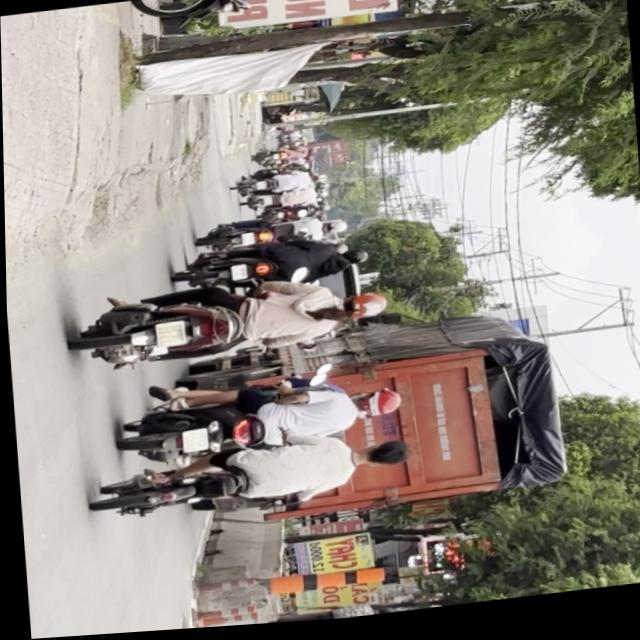helmet: (331, 297, 386, 329), (351, 392, 401, 424)
licenseplate: (69, 267, 392, 381), (84, 431, 416, 533), (112, 365, 406, 469)
motorcyclist: (356, 443, 413, 477)
nohelmet: (152, 323, 186, 351), (180, 431, 207, 455)
